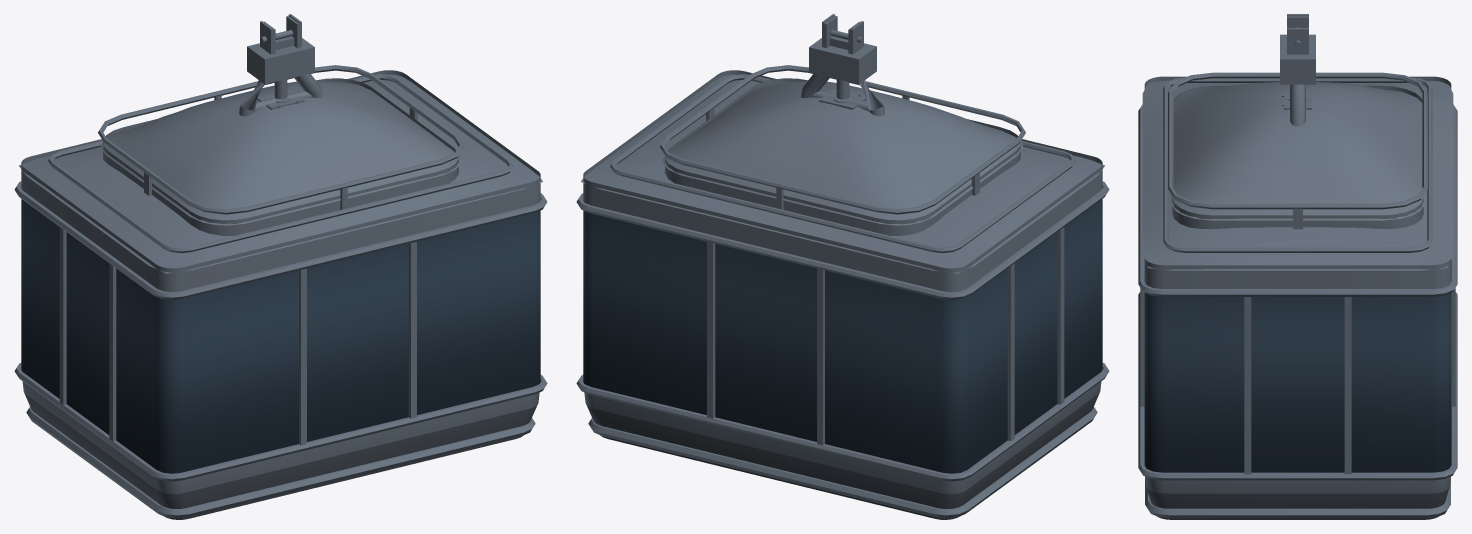
The model's file is cabins.glb.
3 renders of one model, left to right at view 1: azimuth 30°, elevation 25°; view 2: azimuth 150°, elevation 25°; view 3: azimuth 270°, elevation 25°, orthographic.
Visible parts, largest first — view 1: CableCar, Gondola; view 2: CableCar, Gondola; view 3: CableCar, Gondola.
Part boxes in pixels (x1=…): CableCar: x1=14, y1=14, x2=547, y2=519; Gondola: x1=98, y1=16, x2=463, y2=235; CableCar: x1=576, y1=14, x2=1109, y2=519; Gondola: x1=660, y1=16, x2=1025, y2=235; CableCar: x1=1138, y1=14, x2=1457, y2=519; Gondola: x1=1168, y1=16, x2=1427, y2=229.
Size of the model in its own units: 3.29 by 3.24 by 2.29.
Materials: 1 (1 with a texture image).
